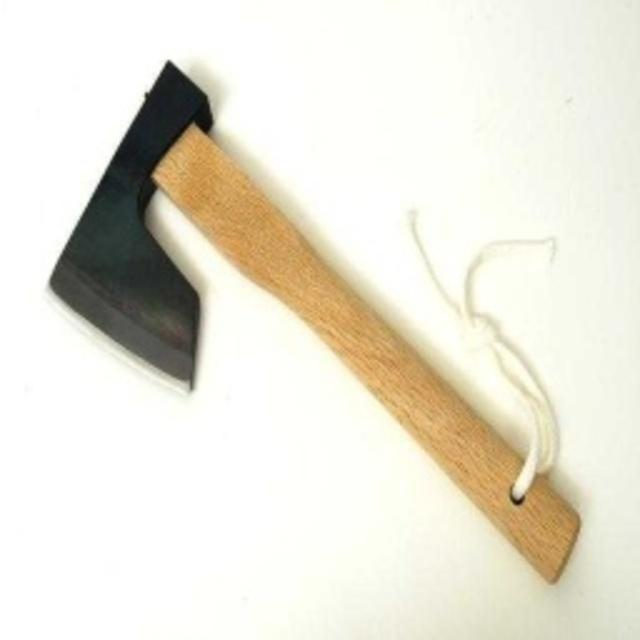ax: (47, 52, 587, 590)
